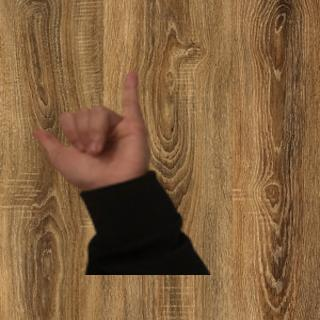HAVE: (24, 65, 159, 192)
